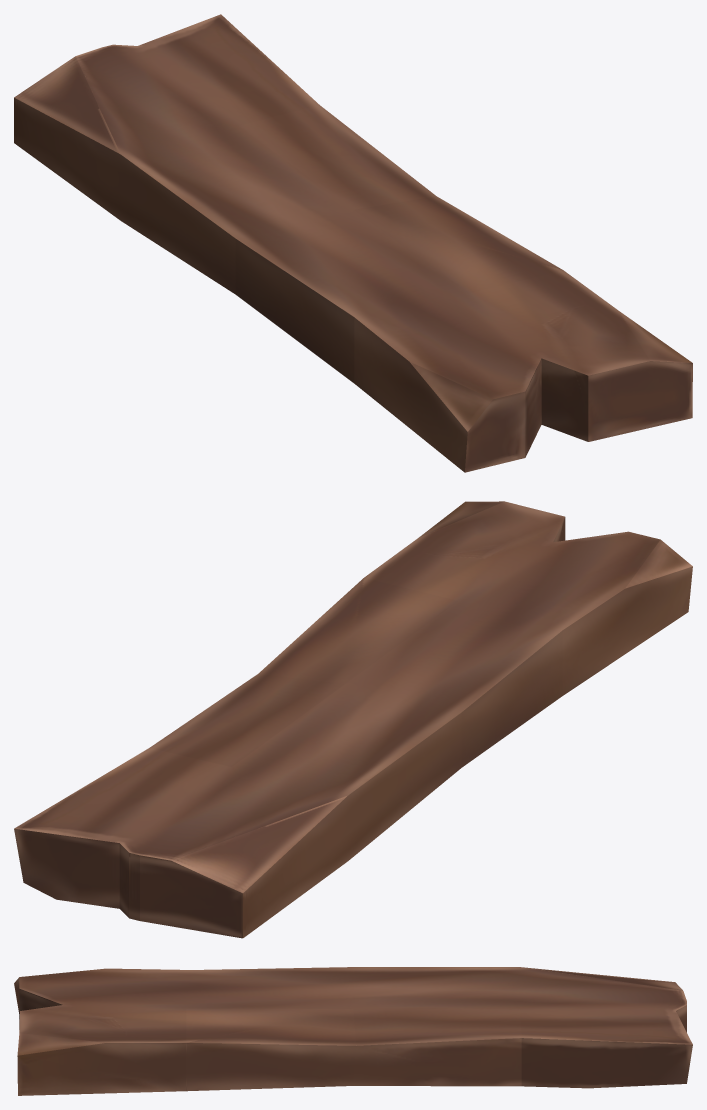
The model's file is SM_Plank_02.fbx.
3 renders of one model, top to bottom at view 1: azimuth 30°, elevation 25°; view 2: azimuth 150°, elevation 25°; view 3: azimuth 270°, elevation 25°, orthographic. The views are drawn at different scales.
Visible parts, largest first — view 1: Plank; view 2: Plank; view 3: Plank.
Part boxes in pixels (x1,y1,x2,y2): Plank: [14, 14, 692, 472]; Plank: [14, 501, 692, 938]; Plank: [14, 967, 692, 1095].
Size of the model in its own units: 25.9 by 7.22 by 91.9.
Materials: 1 (1 with a texture image).
